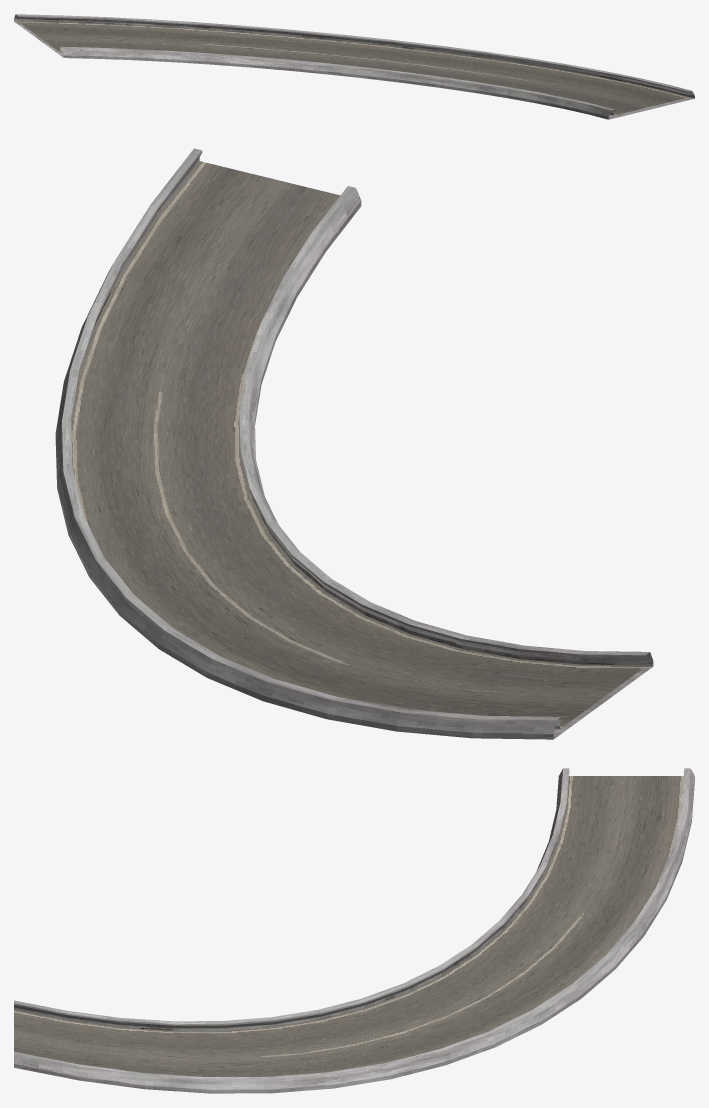
Rendered from turn-left5x5.glb.
3 views of the same model, one above another, from view 1: azimuth 30°, elevation 25°; view 2: azimuth 150°, elevation 25°; view 3: azimuth 270°, elevation 25° (orthographic). The views are drawn at different scales.
Parts seen in each view (by area): view 1: road-Turn-BiSlopeDown-BiSlopeUp-Even-Left-Size5; view 2: road-Turn-BiSlopeDown-BiSlopeUp-Even-Left-Size5; view 3: road-Turn-BiSlopeDown-BiSlopeUp-Even-Left-Size5.
Boxes of the visible parts, x1,y1,x2,y2 form: road-Turn-BiSlopeDown-BiSlopeUp-Even-Left-Size5: [14, 14, 694, 119]; road-Turn-BiSlopeDown-BiSlopeUp-Even-Left-Size5: [55, 148, 653, 739]; road-Turn-BiSlopeDown-BiSlopeUp-Even-Left-Size5: [14, 768, 694, 1093].
Bounding box in the file's own units: 5 × 0.6114 × 5.
Materials: 2 (2 with a texture image).
